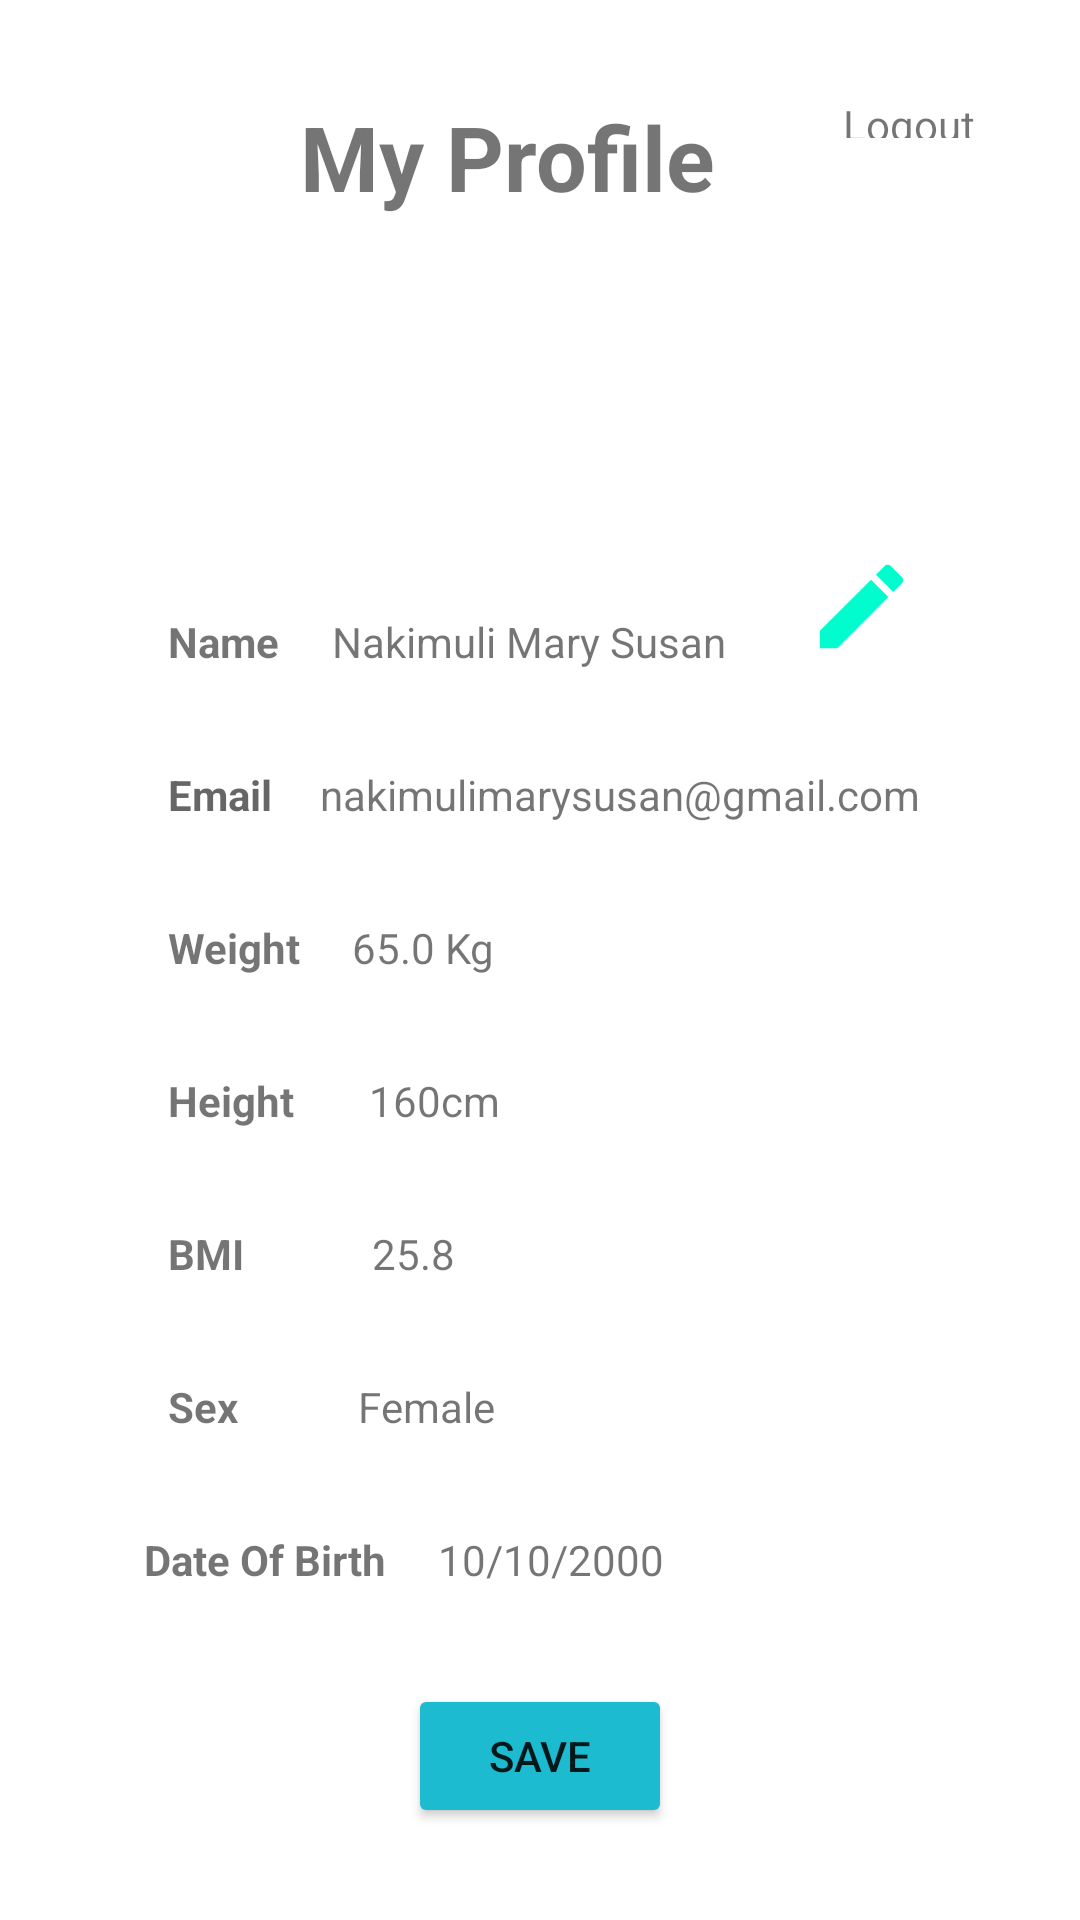

Locate icon controls on the screen. Image size 1080 × 1920, boxes as {"left": x1, "top": y1, "right": x2, "bottom": y2}.
edit: {"left": 819, "top": 564, "right": 903, "bottom": 649}
